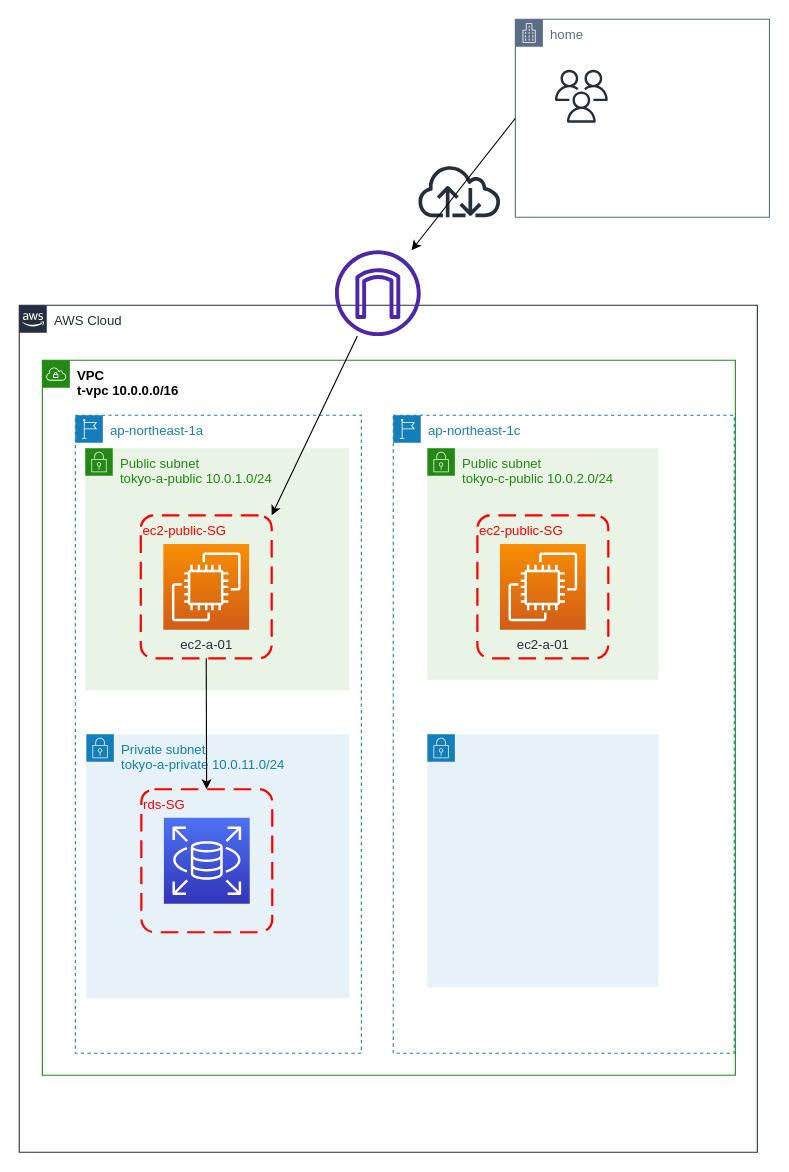
This 789x1172 diagram has some shape labels left out. Each missing label, with the centre of its shape:
"db-t" goes at (206,860).
"IGW" goes at (377,293).
"Private subnet tokyo-c-private 10.0.12.0/24" goes at (542,860).
"Users" goes at (580,95).
